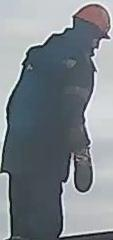gloves: (70, 146, 95, 193)
helmet: (69, 0, 113, 42)
vest: (1, 28, 94, 187)
